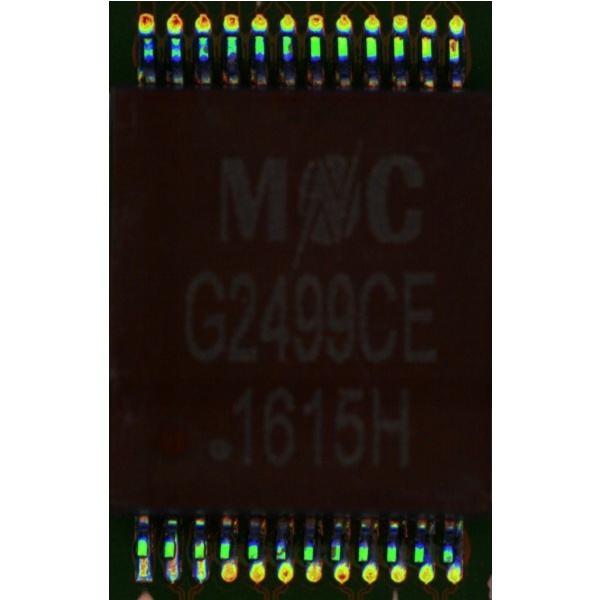Bad_podu: (140, 549, 147, 564), (197, 552, 204, 566)
Bad_qiaojiao: (175, 532, 179, 558)
